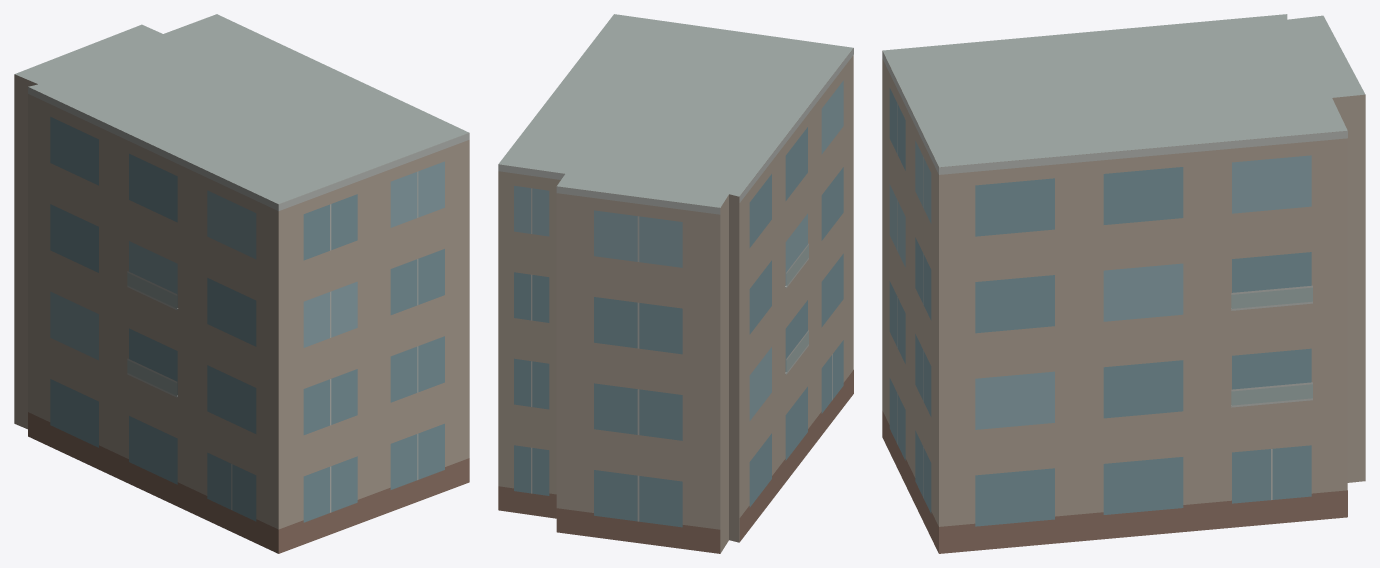
Rendered from survey-upis-32969895.glb.
The picture shows the model from 3 angles, left to right: view 1: azimuth 30°, elevation 25°; view 2: azimuth 150°, elevation 25°; view 3: azimuth 270°, elevation 25°; orthographic projection. The views are drawn at different scales.
Parts seen in each view (by area): view 1: survey-upis-32969895.tmp; view 2: survey-upis-32969895.tmp; view 3: survey-upis-32969895.tmp.
Boxes of the visible parts, <box> form: survey-upis-32969895.tmp: <box>14,14,469,553</box>; survey-upis-32969895.tmp: <box>498,14,853,553</box>; survey-upis-32969895.tmp: <box>882,14,1365,553</box>.
Size of the model in its own units: 10.47 by 12.3 by 13.94.
